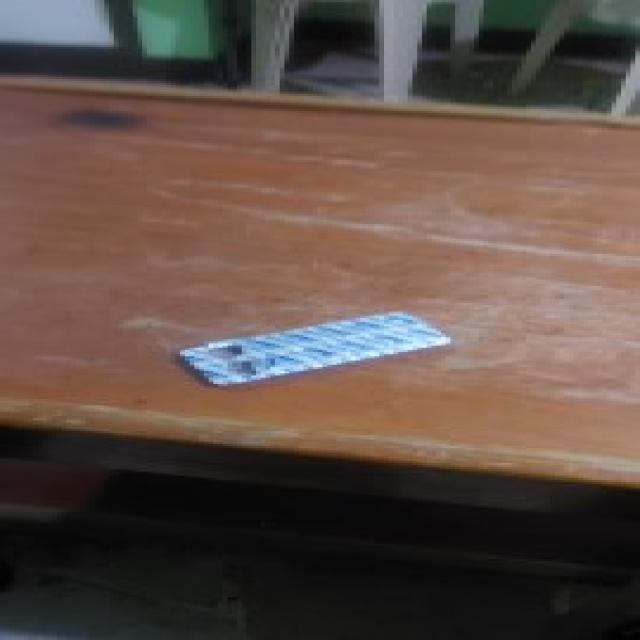Cacat: (180, 308, 458, 388)
Kemasan: (204, 340, 268, 379)
